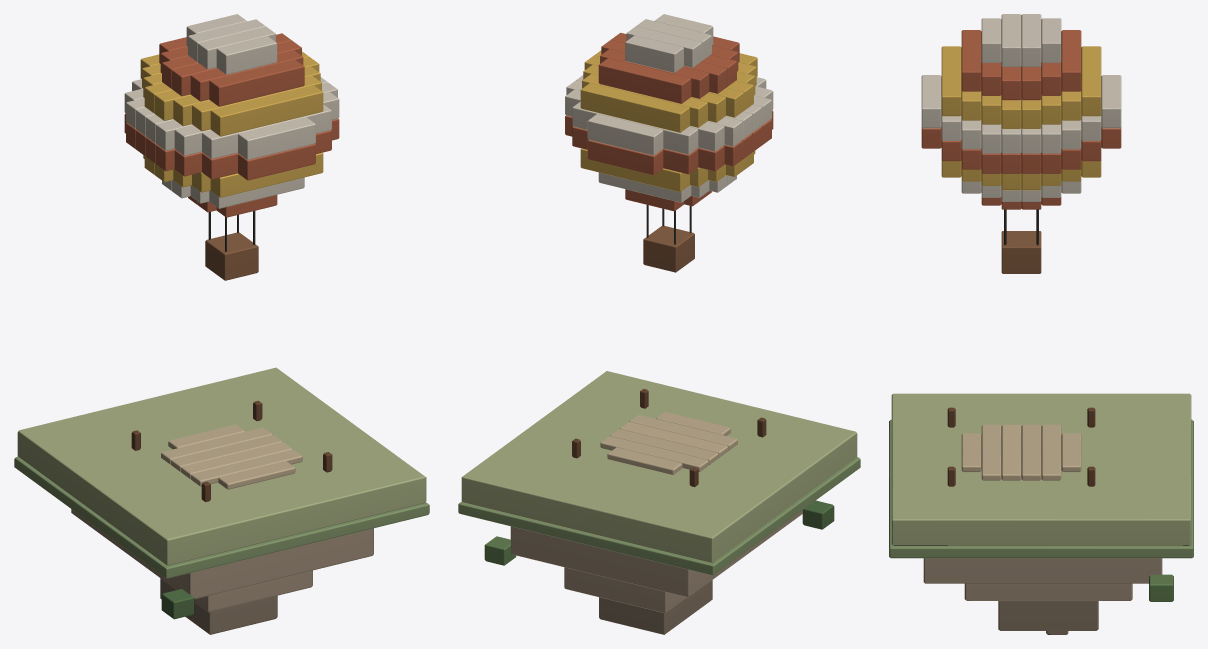
Rendered from region_21.glb.
The picture shows the model from 3 angles, left to right: view 1: azimuth 30°, elevation 25°; view 2: azimuth 150°, elevation 25°; view 3: azimuth 270°, elevation 25°; orthographic projection. The views are drawn at different scales.
Visible parts, largest first — view 1: region_21_static, region_21_balloon; view 2: region_21_static, region_21_balloon; view 3: region_21_static, region_21_balloon.
Boxes of the visible parts, <box> form: region_21_static: <box>14,367,429,634</box>; region_21_balloon: <box>124,14,339,280</box>; region_21_static: <box>458,371,860,634</box>; region_21_balloon: <box>565,14,773,272</box>; region_21_static: <box>889,393,1193,634</box>; region_21_balloon: <box>921,14,1121,273</box>.
Bounding box in the file's own units: 6.1 × 13.17 × 6.1.
